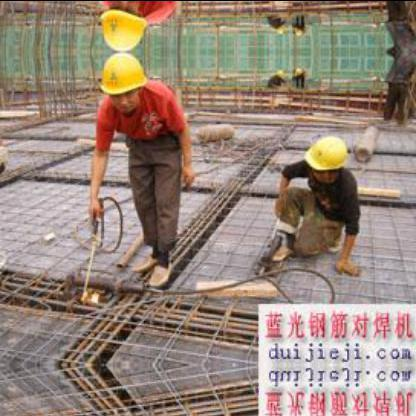Helmet: (93, 50, 151, 108), (92, 0, 152, 51), (302, 131, 350, 181)
